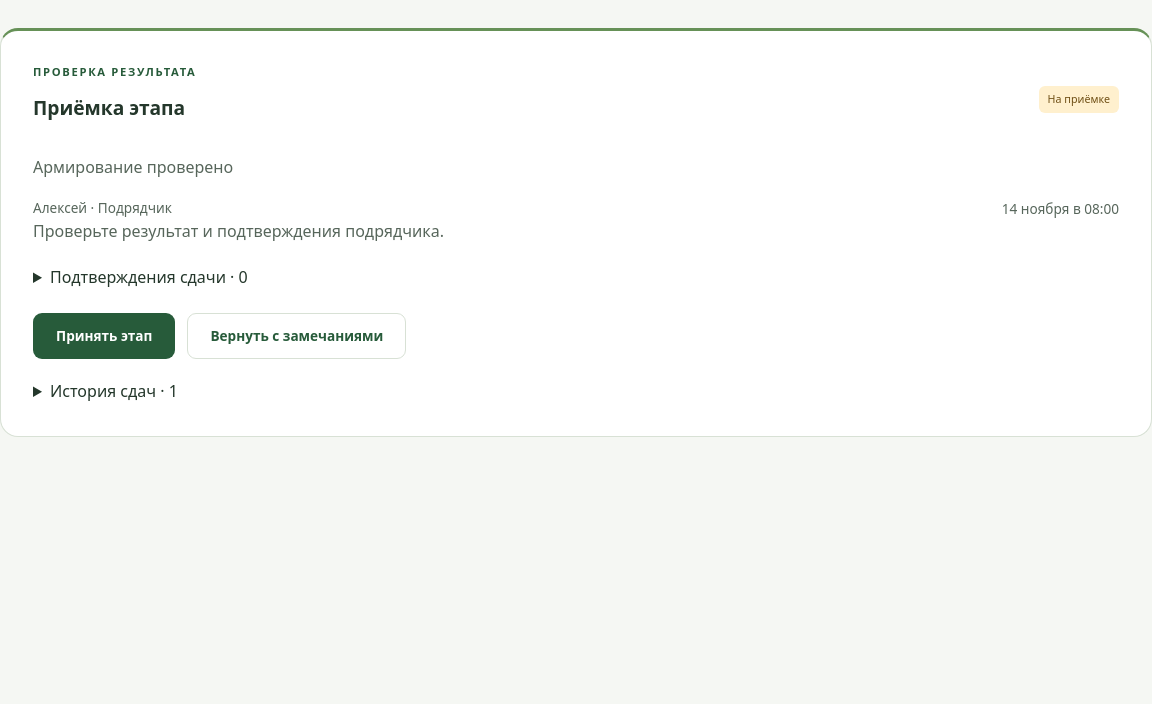
возврат связывает ошибку с замечанием и сохраняет введённый текст
Click the button "Вернуть с замечаниями". click: (297, 336)
box: [187,312,406,358]
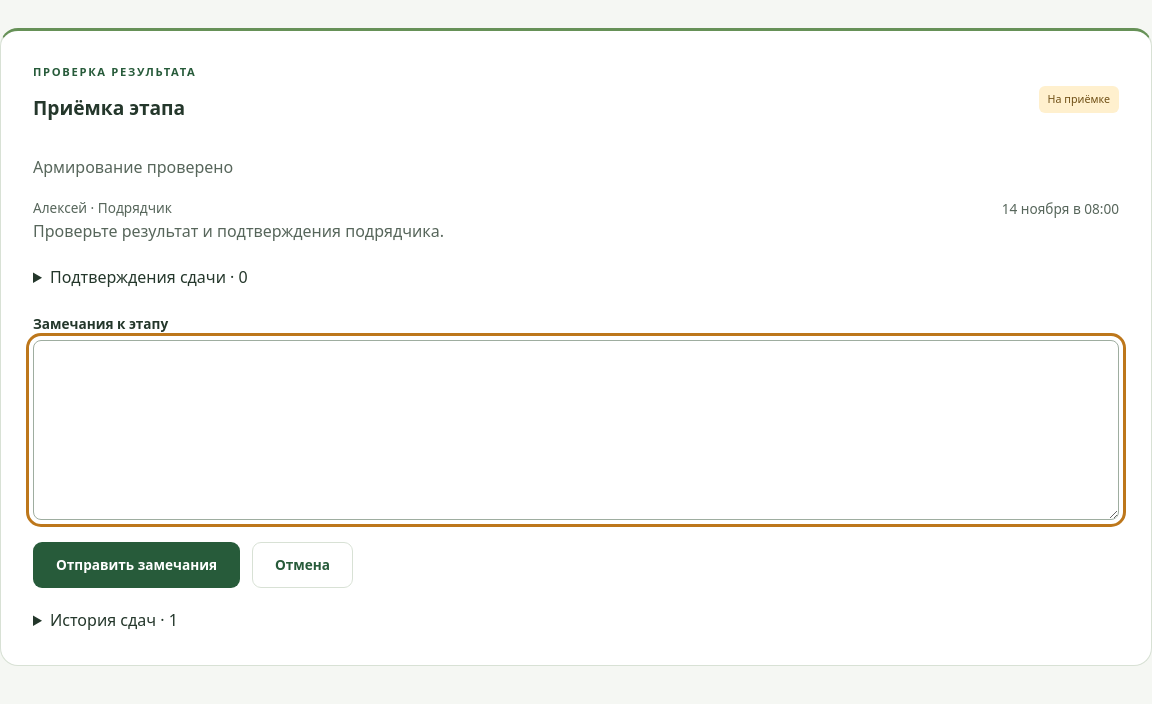
Type "Нужно уточнить армирование" into the text box labelled "Замечания к этапу". click: (576, 430)
box: [33,340,1119,520]
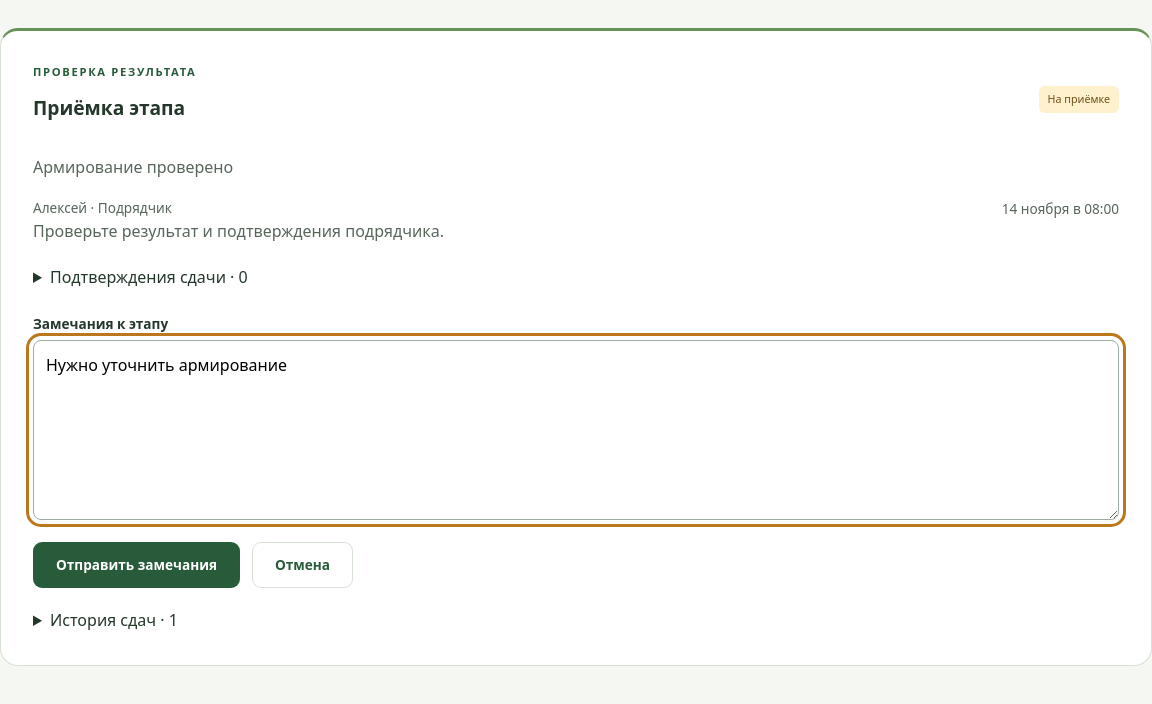
Click the button "Отправить замечания". click: (136, 565)
box: [33,542,240,588]
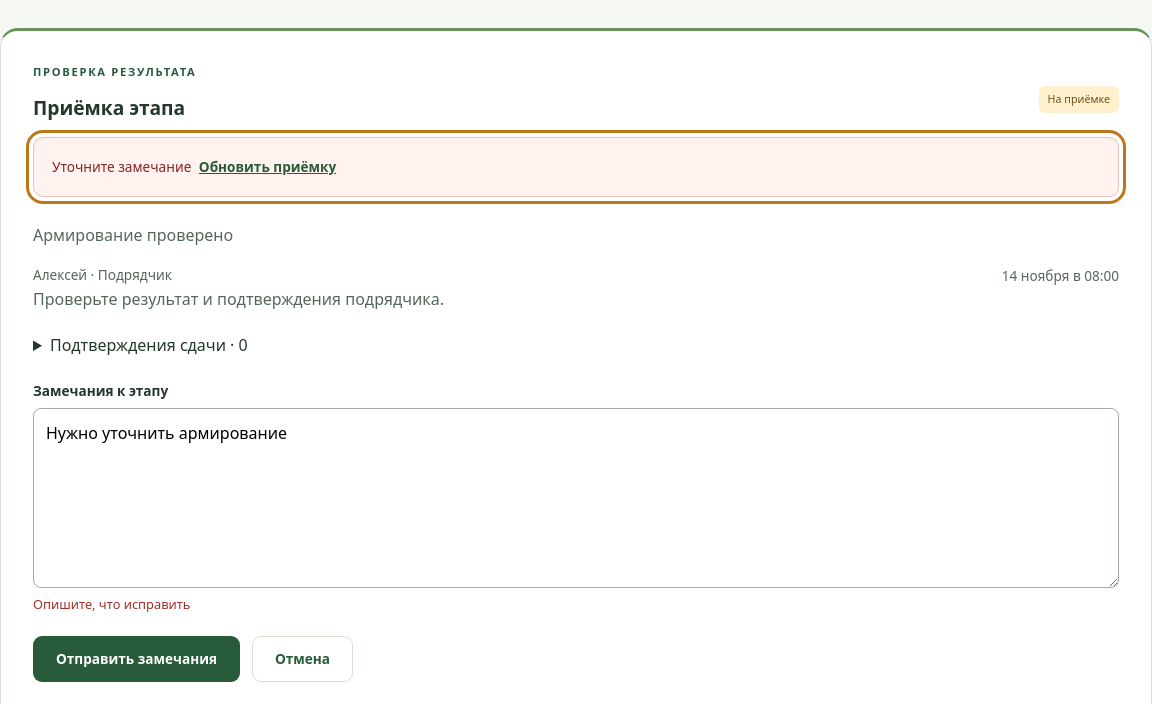
Expected: the text "Опишите, что исправить" is shown, [33,595,190,613]
